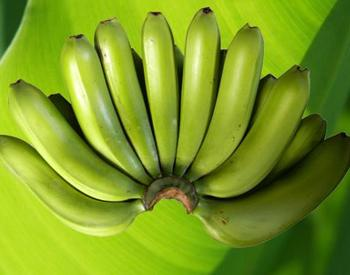Banana Unripe: (9, 17, 350, 249)
